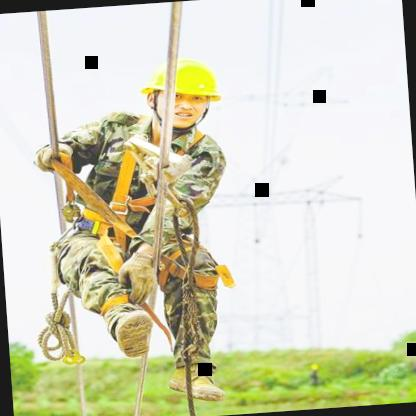helmet: (164, 51, 226, 135)
